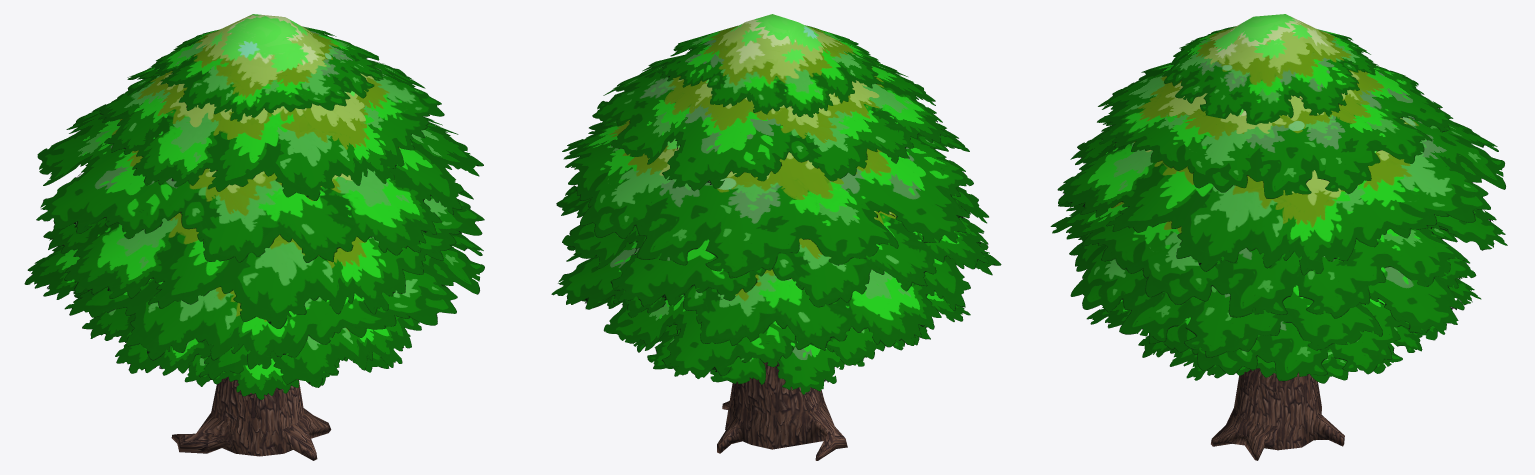
Rendered from Tree.glb.
3 renders of one model, left to right at view 1: azimuth 30°, elevation 25°; view 2: azimuth 150°, elevation 25°; view 3: azimuth 270°, elevation 25°, orthographic. The views are drawn at different scales.
Visible parts, largest first — view 1: Tree; view 2: Tree; view 3: Tree.
Part boxes in pixels (x1,y1,x2,y2): Tree: (24,14,484,460); Tree: (551,14,1001,460); Tree: (1050,14,1507,460).
Bounding box in the file's own units: 10.07 × 9.63 × 10.15.
2 materials, 2 textured.
